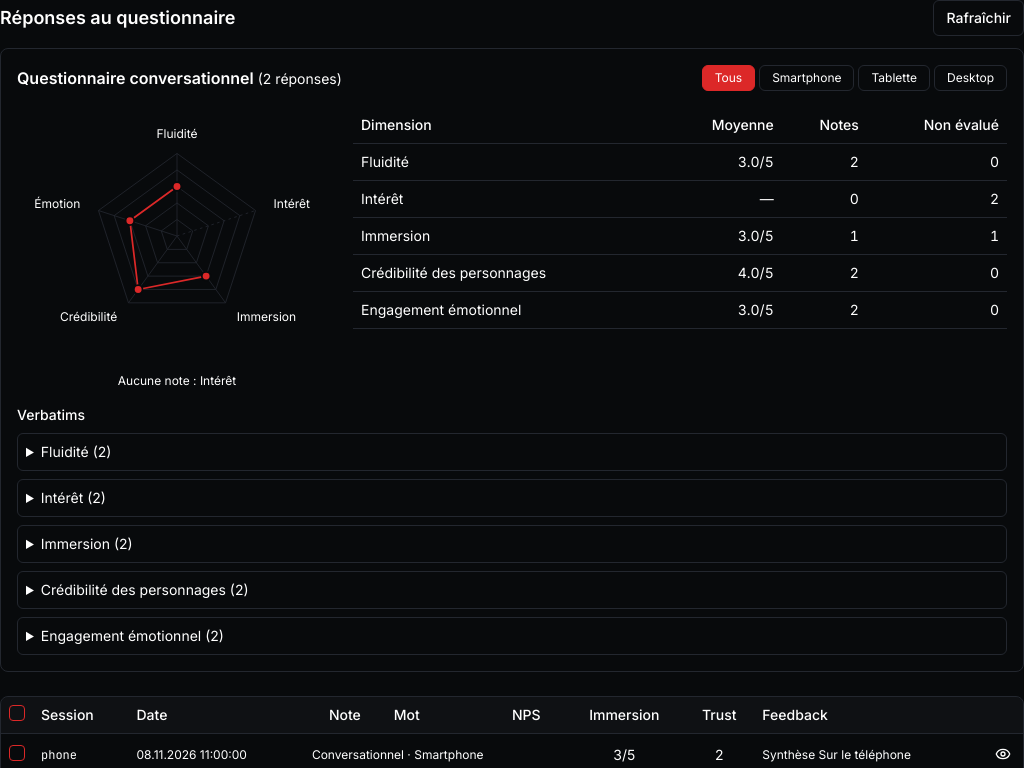
Test case: QuestionnairesTab › aggregates conversational scores apart from not-rated and filters by device
Expected: the row with test id "aggregate-fluidity" shows "3.0/5", [738,153,774,170]
Expected: the row with test id "aggregate-interest" shows "—", [760,190,774,207]
Click the button "Desktop": (971, 78) [934,65,1007,91]
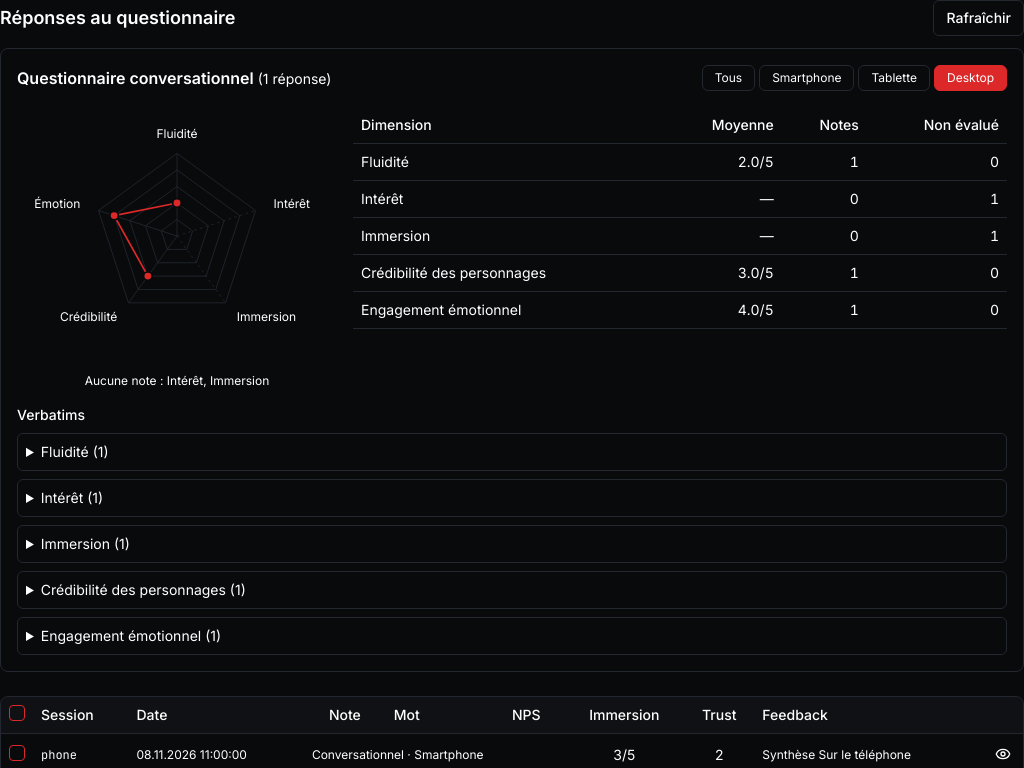
Expected: the text "(1 réponse)" is shown, [258,70,332,87]
Expected: the row with test id "aggregate-fluidity" shows "2.0/5", [738,153,774,170]
Click the button "Tablette": (894, 78) [858,65,930,91]
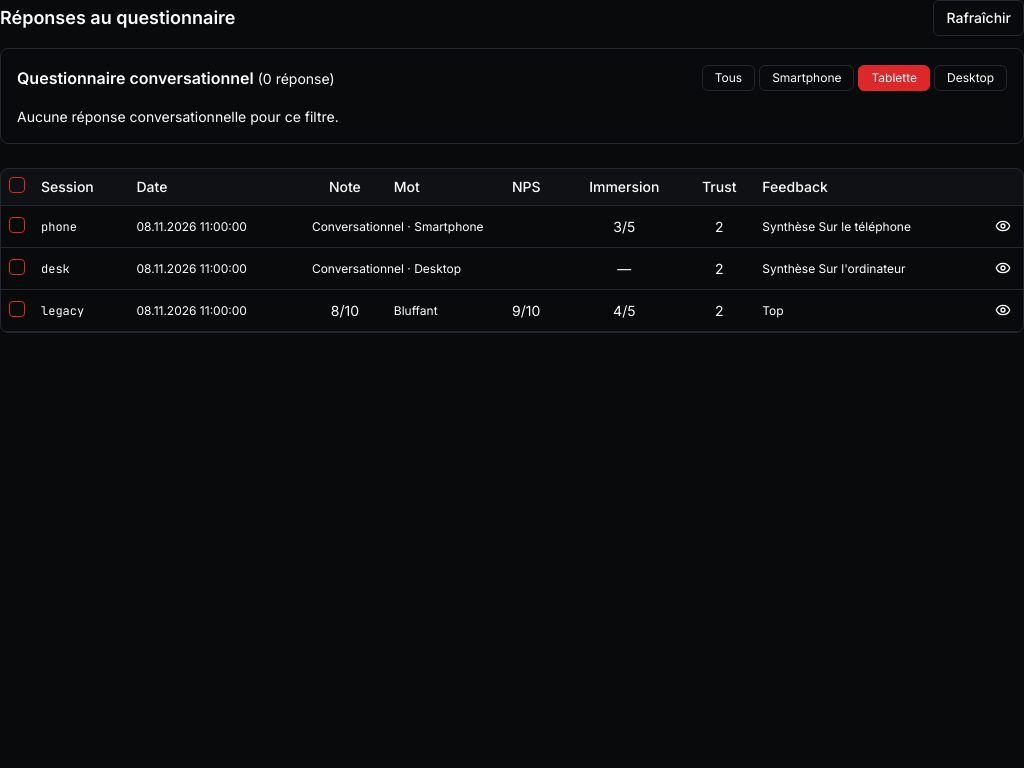
Expected: the text "Aucune réponse conversationnelle pour ce filtre." is shown, [17,108,339,125]
